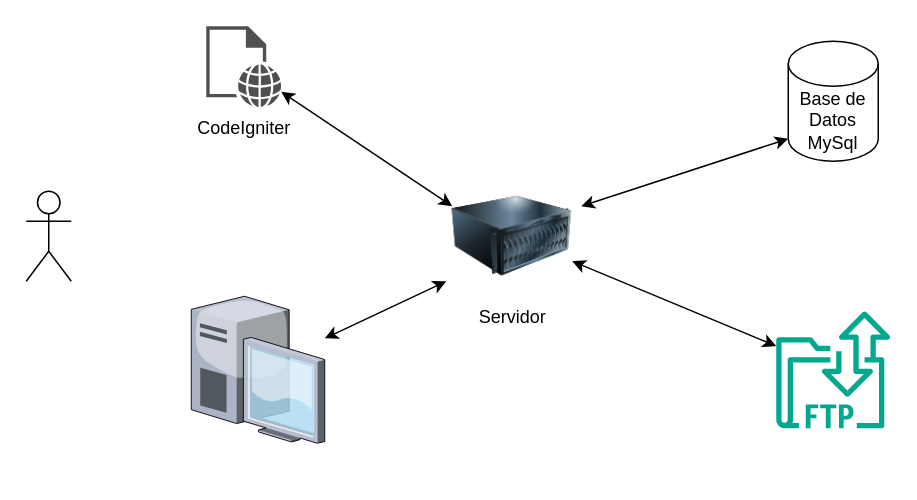
The diagram is 917 pixels wide and 500 high, and some of its shapes have lost their labels. Here are the shapes that lost their labels. From the top down, the box of each, then its label:
(25, 190, 71, 281): Actor
(190, 296, 324, 442): Python
